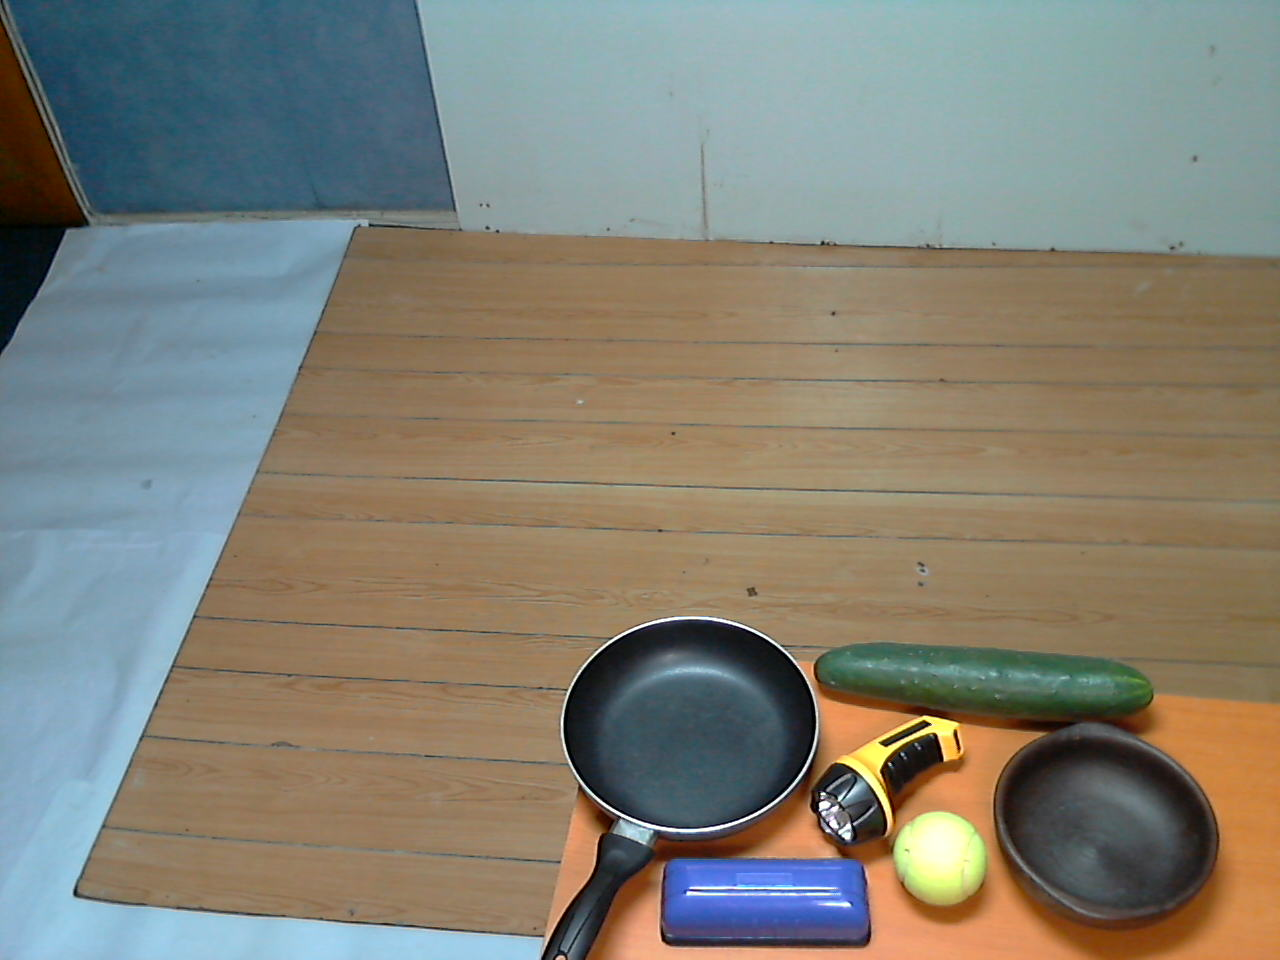borrador: (652, 845, 879, 960)
greda: (982, 707, 1229, 942)
linterna: (791, 713, 976, 870)
pelota: (883, 798, 998, 923)
pepino: (807, 629, 1186, 731)
sarten: (516, 600, 836, 960)
